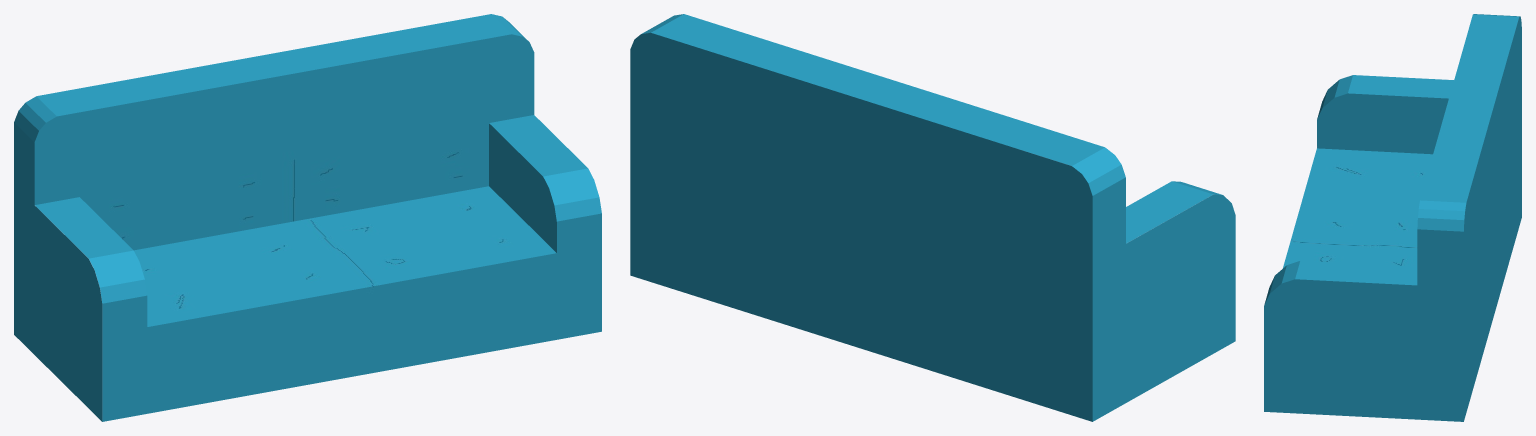
File: sofa001.obj
3 renders of one model, left to right at view 1: azimuth 30°, elevation 25°; view 2: azimuth 150°, elevation 25°; view 3: azimuth 270°, elevation 25°, orthographic. The views are drawn at different scales.
Parts seen in each view (by area): view 1: sofa.001_Cube.003; view 2: sofa.001_Cube.003; view 3: sofa.001_Cube.003.
Part boxes in pixels (x1=…): sofa.001_Cube.003: x1=14, y1=14, x2=601, y2=421; sofa.001_Cube.003: x1=630, y1=14, x2=1235, y2=421; sofa.001_Cube.003: x1=1264, y1=14, x2=1521, y2=421.
Bounding box in the file's own units: 6.44 × 2.94 × 3.27.
